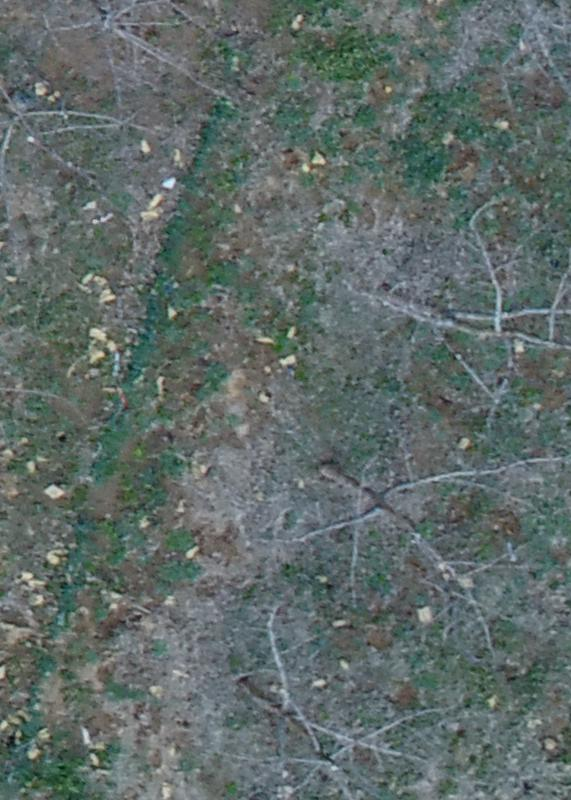apple: (170, 617, 472, 790), (337, 205, 561, 419), (270, 434, 561, 591), (10, 63, 137, 199)
